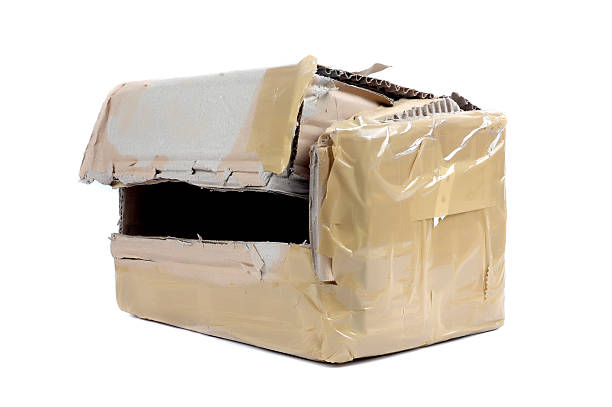damaged package: (84, 130, 328, 258), (318, 66, 480, 124)
